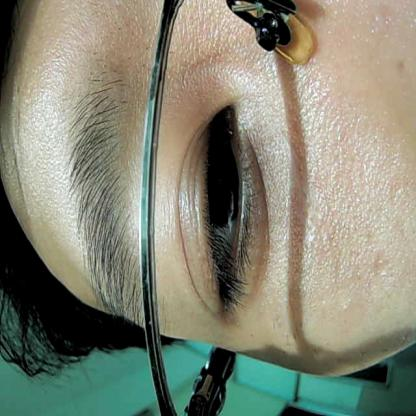Left: (166, 90, 276, 324)
